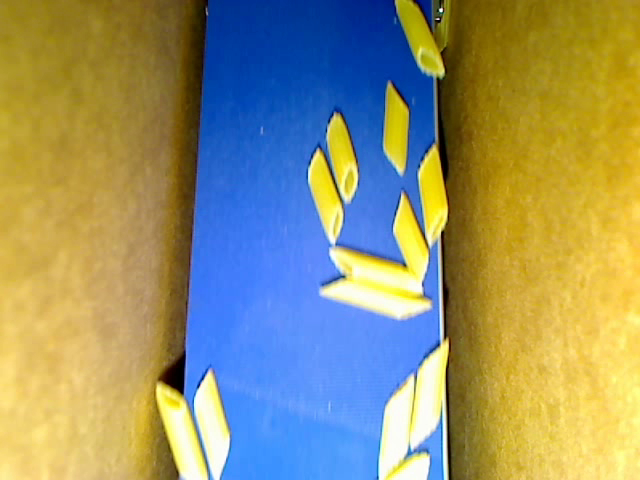penne: (315, 276, 433, 320), (151, 378, 202, 476), (408, 335, 449, 447), (326, 247, 422, 294), (389, 1, 445, 75), (375, 368, 414, 473), (305, 147, 345, 249), (389, 189, 430, 284), (198, 361, 230, 479), (418, 140, 451, 247), (322, 108, 358, 205), (382, 81, 407, 171)
